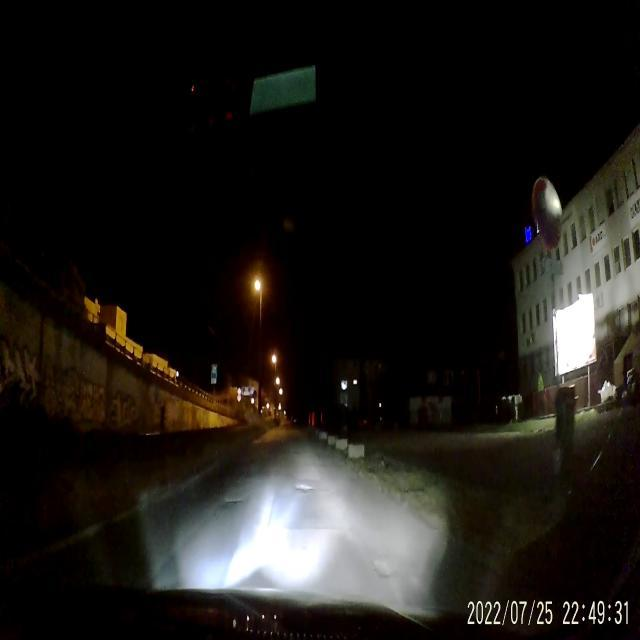Pothole: (371, 554, 394, 580), (221, 494, 246, 512), (294, 480, 316, 496)
